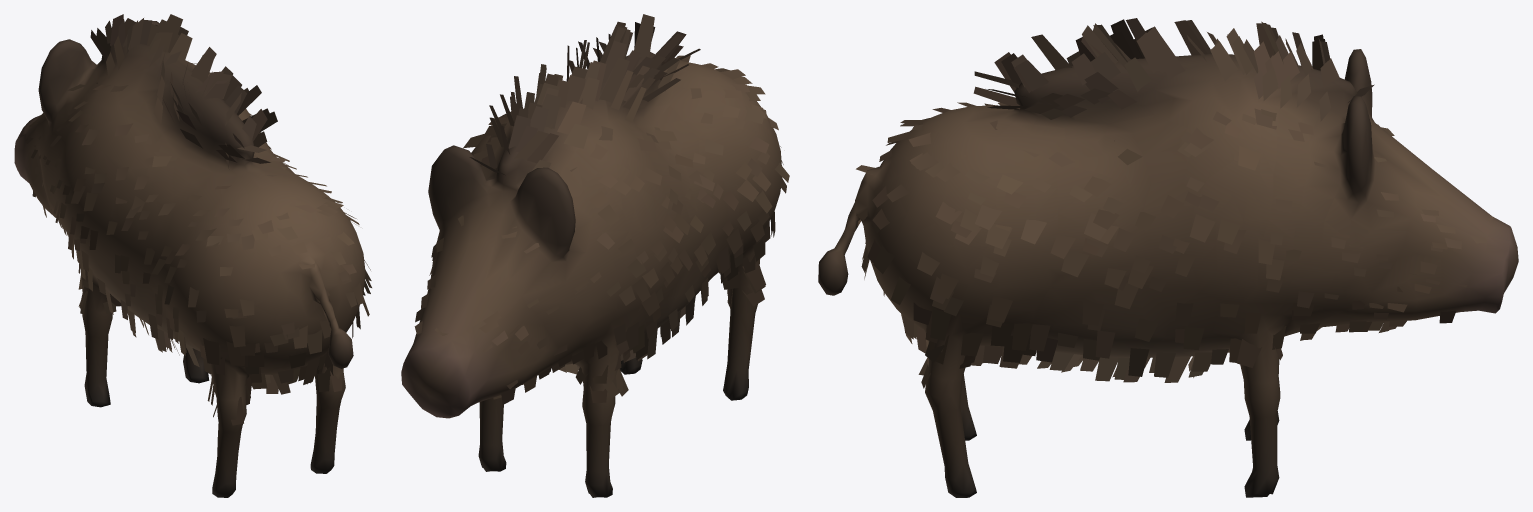
Rendered from animale_maiale_2.glb.
The picture shows the model from 3 angles, left to right: view 1: azimuth 30°, elevation 25°; view 2: azimuth 150°, elevation 25°; view 3: azimuth 270°, elevation 25°; orthographic projection. The views are drawn at different scales.
Parts seen in each view (by area): view 1: animale_maiale_2; view 2: animale_maiale_2; view 3: animale_maiale_2.
Boxes of the visible parts, x1,y1,x2,y2 form: animale_maiale_2: (14,14,371,497); animale_maiale_2: (401,14,789,497); animale_maiale_2: (818,18,1518,497).
Size of the model in its own units: 0.4434 by 0.7986 by 1.14.
